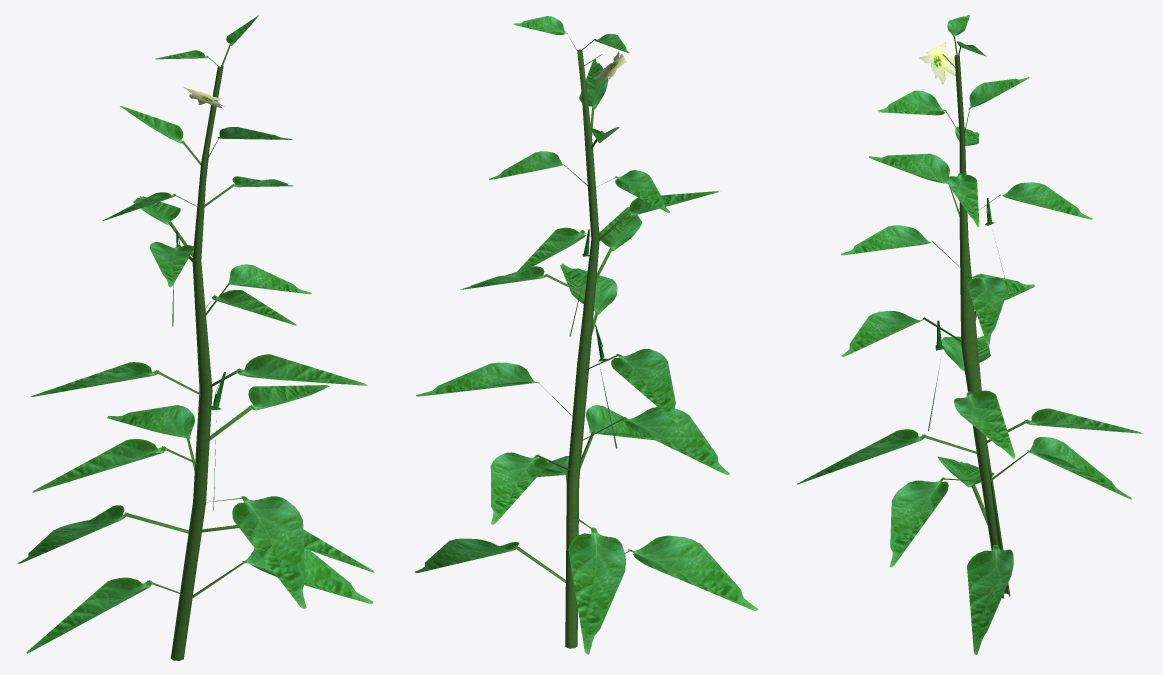
Rendered from Jalapeno.glb.
3 renders of one model, left to right at view 1: azimuth 30°, elevation 25°; view 2: azimuth 150°, elevation 25°; view 3: azimuth 270°, elevation 25°, orthographic. The views are drawn at different scales.
Visible parts, largest first — view 1: Jalapeno; view 2: Jalapeno; view 3: Jalapeno.
Boxes of the visible parts, x1,y1,x2,y2 form: Jalapeno: [17, 15, 374, 660]; Jalapeno: [415, 16, 758, 654]; Jalapeno: [797, 15, 1142, 654].
Bounding box in the file's own units: 0.9585 × 1.6 × 0.8986.
Materials: 1 (1 with a texture image).
